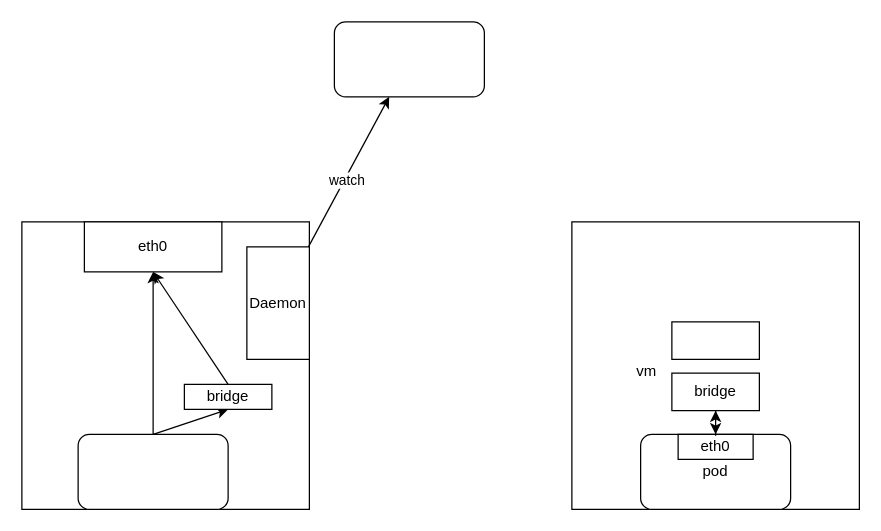
Some shapes in this 881 by 531 pixel diagram are drawn without their labels. Here are the shapes that lost their labels. From the top down, the centre of each, then its label:
At point (408, 59): "ETCD".
At point (715, 340): "flannel.1".
At point (152, 471): "进程".
